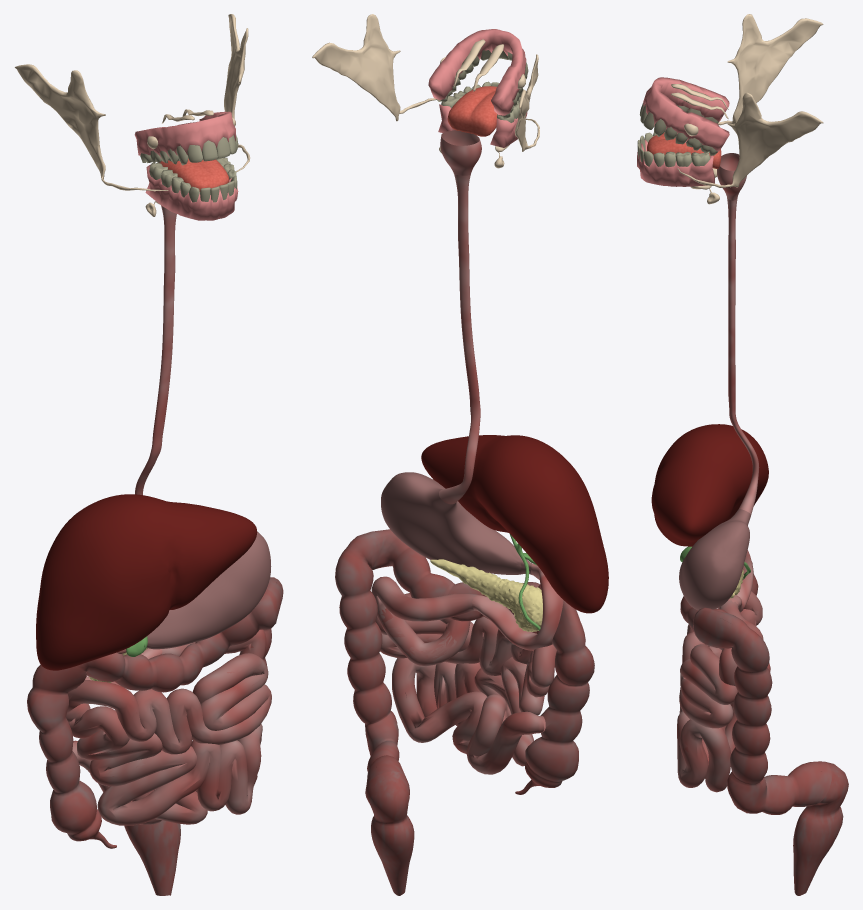
Rendered from digestivesystem.glb.
3 renders of one model, left to right at view 1: azimuth 30°, elevation 25°; view 2: azimuth 150°, elevation 25°; view 3: azimuth 270°, elevation 25°, orthographic. The views are drawn at different scales.
Visible parts, largest first — view 1: small, liver, large, mouth, stomach, salicaryglands, esophagus, rectum, tongue; view 2: small, large, liver, stomach, salicaryglands, mouth, esophagus, rectum, pancreas, duodenum, tongue; view 3: large, liver, small, salicaryglands, mouth, stomach, rectum, esophagus, tongue, duodenum.
Boxes of the visible parts, x1,y1,x2,y2 form: small: (66, 629, 271, 825); liver: (36, 494, 257, 670); large: (27, 577, 283, 848); mouth: (134, 111, 238, 220); stomach: (146, 531, 271, 649); salicaryglands: (14, 14, 250, 216); esophagus: (135, 205, 176, 494); rectum: (124, 820, 180, 895); tongue: (159, 158, 229, 191); small: (371, 576, 556, 774); large: (335, 529, 594, 794); liver: (421, 435, 608, 613); stomach: (381, 472, 533, 574); salicaryglands: (312, 14, 539, 168); mouth: (428, 29, 528, 147); esophagus: (439, 130, 481, 504); rectum: (365, 771, 414, 895); pancreas: (430, 559, 542, 631); duodenum: (471, 564, 563, 650); tongue: (447, 86, 497, 136); large: (680, 561, 831, 814); liver: (651, 424, 768, 546); small: (677, 591, 770, 792); salicaryglands: (671, 14, 823, 204); mouth: (637, 77, 729, 186); stomach: (679, 509, 750, 610); rectum: (793, 761, 848, 895); esophagus: (717, 153, 759, 514); tongue: (647, 132, 721, 168); duodenum: (717, 550, 753, 612).
Bounding box in the file's own units: 1.5 × 4.89 × 1.14.
13 materials, 10 textured.
